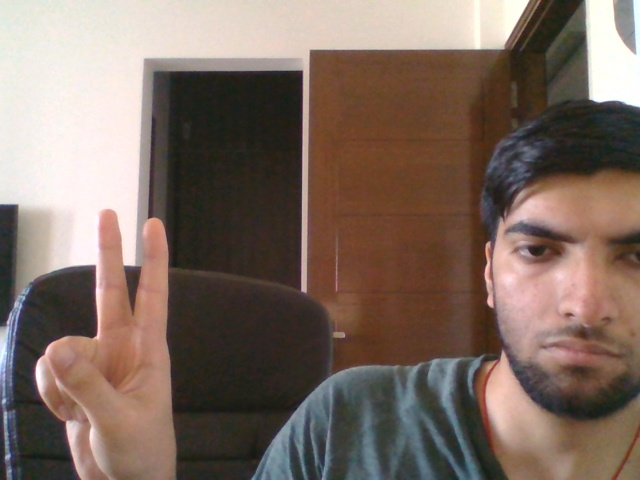LetterV: (33, 206, 182, 478)
